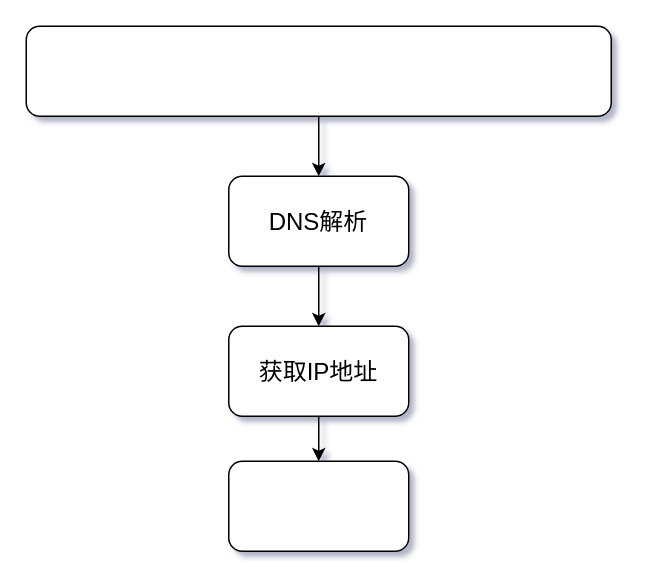
Some shapes in this 647 by 587 pixel diagram are drawn without their labels. Here are the shapes that lost their labels. From the top down, the centre of each, then its label:
At point (318, 70): "输入域名".
At point (318, 505): "服务器返回".
